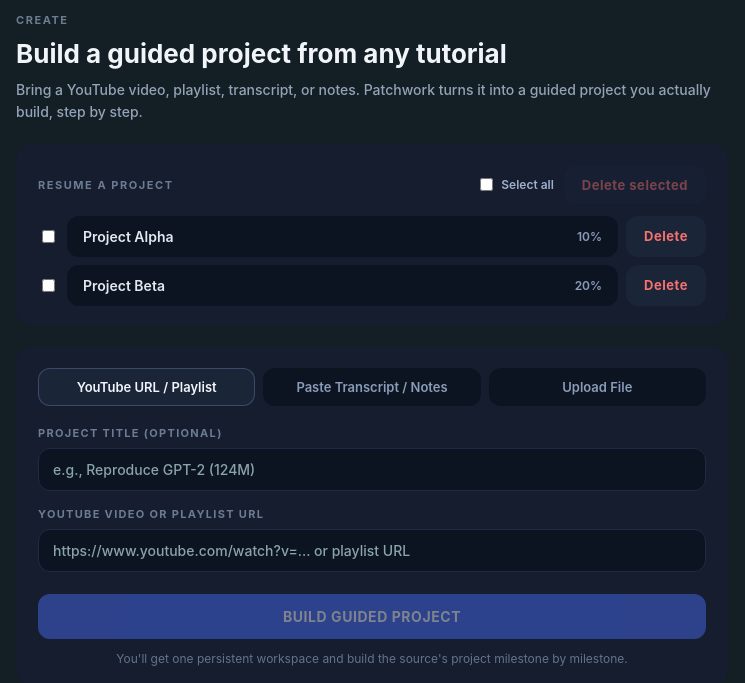
Scenario: CreatePage Component › deletes all selected projects from the resume list
Expected: the text "Project Alpha" is shown, [83,228,174,245]
Click the checkbox named "Select Project Alpha for deletion": (48, 236) [42,230,55,243]
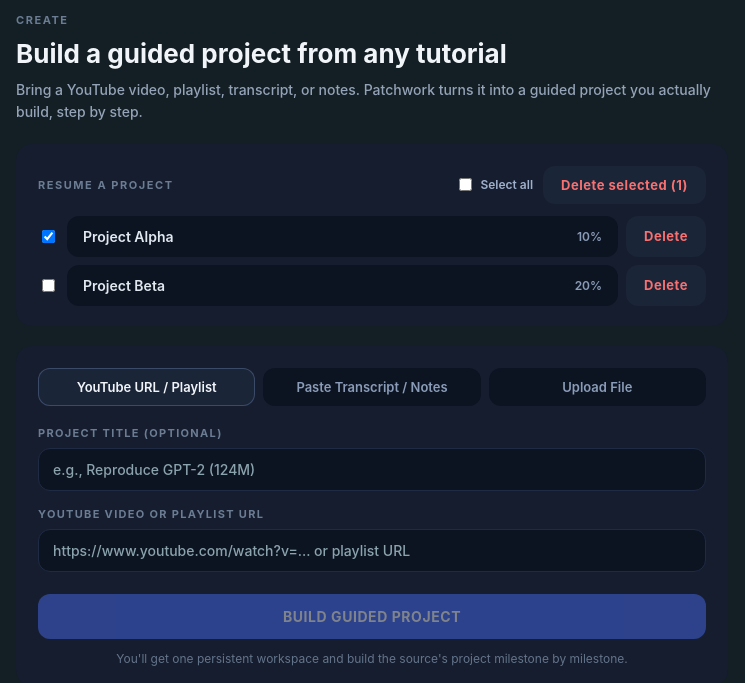
Click the checkbox named "Select Project Beta for deletion": (48, 285) [42,279,55,292]
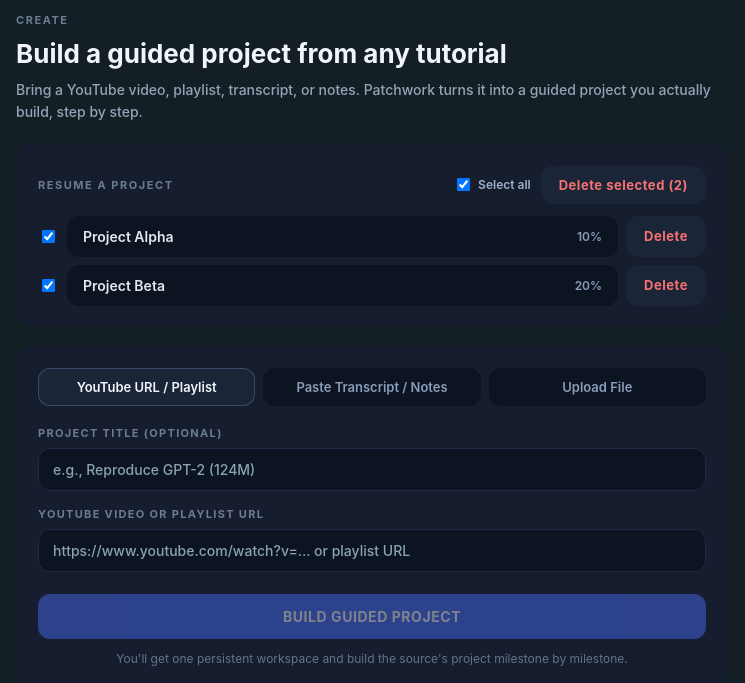
Click the button with aria-label "Delete selected projects": (623, 185) [541,166,706,204]
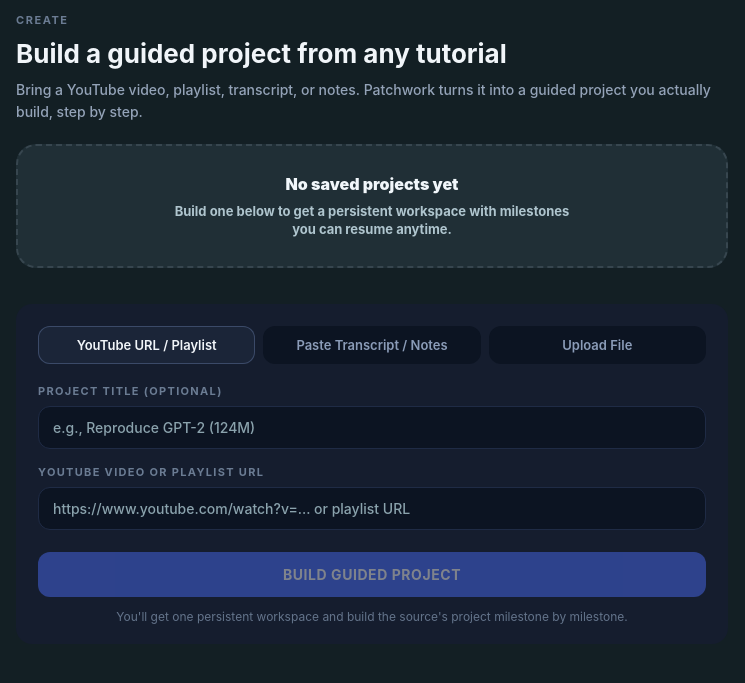
Now the button "Project Alpha" is gone
Now the button "Project Beta" is gone
